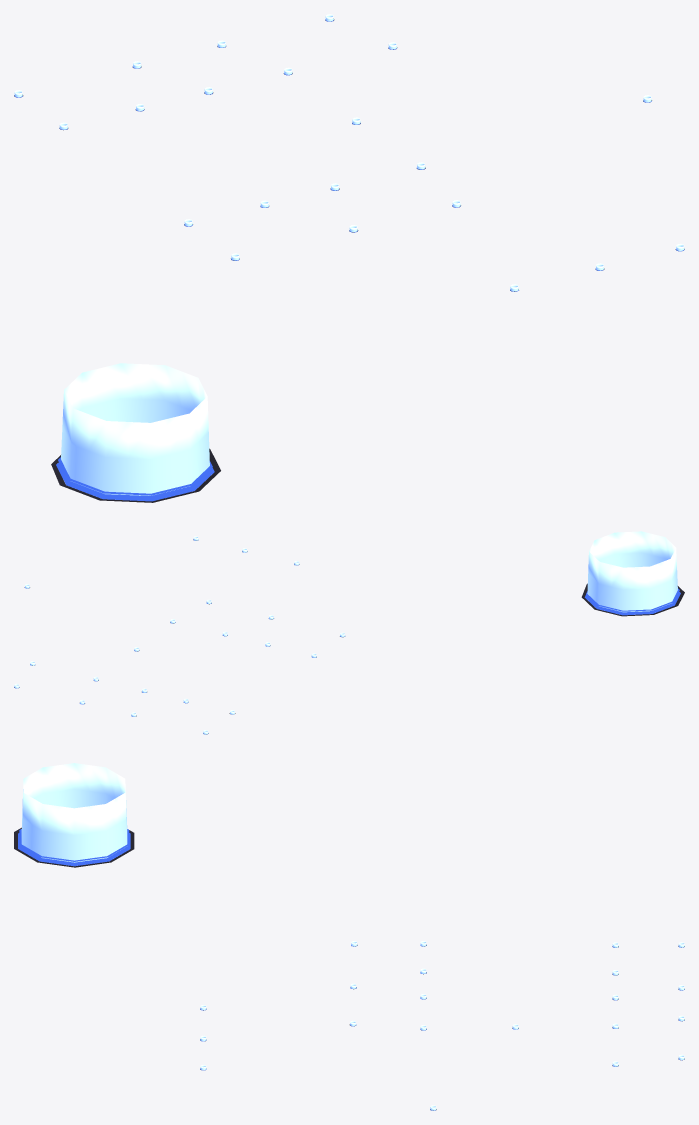
File: spawnpoint.glb
3 views of the same model, one above another, from view 1: azimuth 30°, elevation 25°; view 2: azimuth 150°, elevation 25°; view 3: azimuth 270°, elevation 25° (orthographic). The views are drawn at different scales.
Visible parts, largest first — view 1: Torus.009, spg_außen; view 2: Torus.009, spg_außen; view 3: Torus.009, spg_außen.
Part boxes in pixels (x1,y1,x2,y2): Torus.009: (61,363,209,495); spg_außen: (51,448,220,502); Torus.009: (587,531,677,612); spg_außen: (581,583,684,616); Torus.009: (21,763,127,862); spg_außen: (14,827,134,867).
Size of the model in its own units: 64.15 by 5.63 by 60.35.
